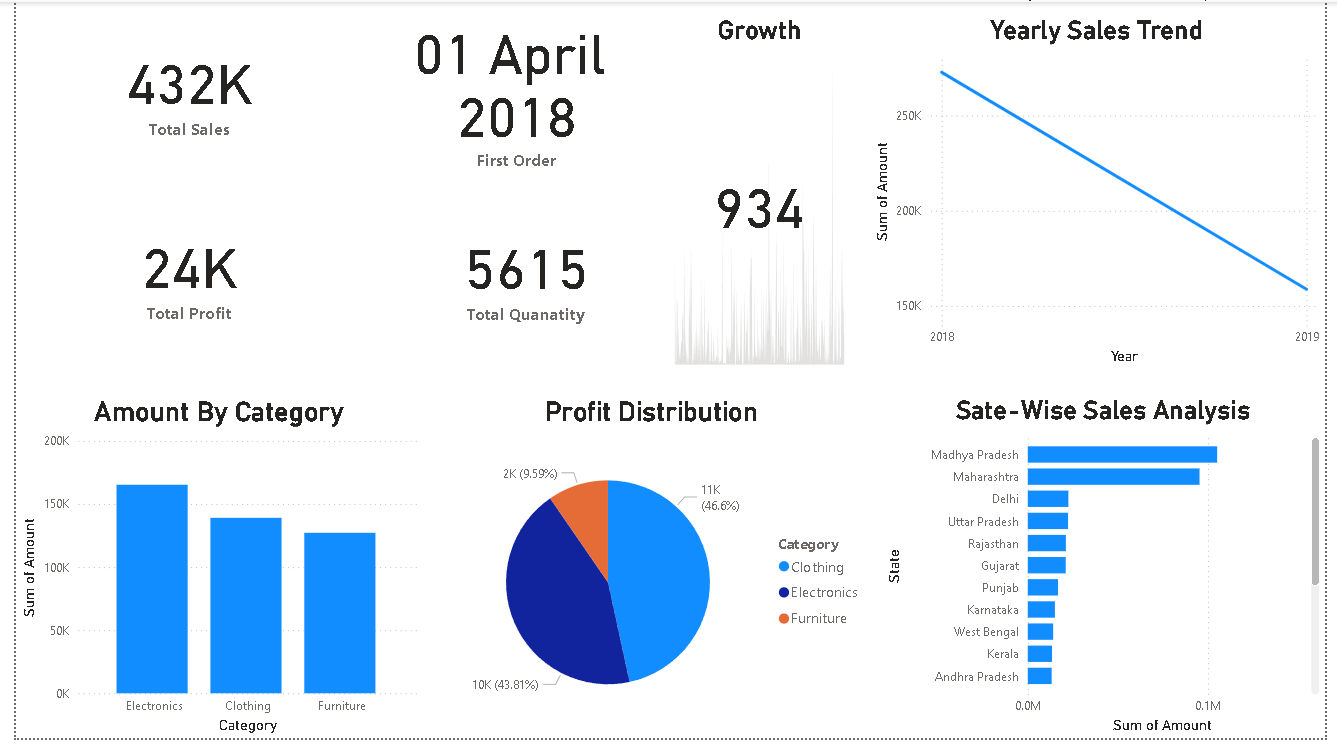

What the dashboard file says about the page in this screenshot:
{"tool":"powerbi","page":{"name":"Page 1","canvas":[1280,720],"ordinal":0},"visuals":[{"type":"clusteredColumnChart","title":"Amount By Category","fields":{"Category":["final_sales_data (2).Category"],"Y":["Sum(final_sales_data (2).Amount)"]},"box":[0,385.2,397.4,335.1],"z":0},{"type":"pieChart","title":"Profit Distribution","fields":{"Category":["final_sales_data (2).Category"],"Y":["Sum(final_sales_data (2).Profit)"]},"box":[408.4,385.2,426.8,335.1],"z":1000},{"type":"barChart","title":"Sate-Wise Sales Analysis","fields":{"Category":["final_sales_data (2).State"],"Y":["Sum(final_sales_data (2).Amount)"]},"box":[846.2,385.2,434.1,335.1],"z":2000},{"type":"card","fields":{"Values":["Sum(final_sales_data (2).Amount)"]},"box":[0,0,339.9,170.6],"z":3000},{"type":"card","fields":{"Values":["Sum(final_sales_data (2).Profit)"]},"box":[0,170,339.9,189.5],"z":4000},{"type":"card","fields":{"Values":["Sum(final_sales_data (2).Quantity)"]},"box":[339.9,170.6,318.7,189.1],"z":5000},{"type":"lineChart","title":"Yearly Sales Trend","fields":{"Category":["final_sales_data (2).Order Date.Variation.Date Hierarchy.Year","final_sales_data (2).Order Date.Variation.Date Hierarchy.Quarter","final_sales_data (2).Order Date.Variation.Date Hierarchy.Month","final_sales_data (2).Order Date.Variation.Date Hierarchy.Day"],"Y":["Sum(final_sales_data (2).Amount)"]},"box":[834.6,13.2,445.7,346.5],"z":6000},{"type":"kpi","title":"Growth","fields":{"Indicator":["Sum(final_sales_data (2).Amount)"],"TrendLine":["final_sales_data (2).Order Date"]},"box":[640.1,13.2,175.9,346.5],"z":7000},{"type":"card","fields":{"Values":["Min(final_sales_data (2).Order Date)"]},"box":[340,0,300,171],"z":8000}]}

Visuals, with their boxes in screenshot pixels (x1, y1, x2, y2), scaled from the page's 1280x720 canvas onto the 1337x744 screenshot:
"Amount By Category" clusteredColumnChart: BBox(0, 398, 415, 743)
"Profit Distribution" pieChart: BBox(427, 398, 872, 743)
"Sate-Wise Sales Analysis" barChart: BBox(884, 398, 1336, 743)
card - Sum(final_sales_data (2).Amount): BBox(0, 0, 355, 176)
card - Sum(final_sales_data (2).Profit): BBox(0, 176, 355, 371)
card - Sum(final_sales_data (2).Quantity): BBox(355, 176, 688, 372)
"Yearly Sales Trend" lineChart: BBox(872, 14, 1336, 372)
"Growth" kpi: BBox(669, 14, 852, 372)
card - Min(final_sales_data (2).Order Date): BBox(355, 0, 668, 177)
